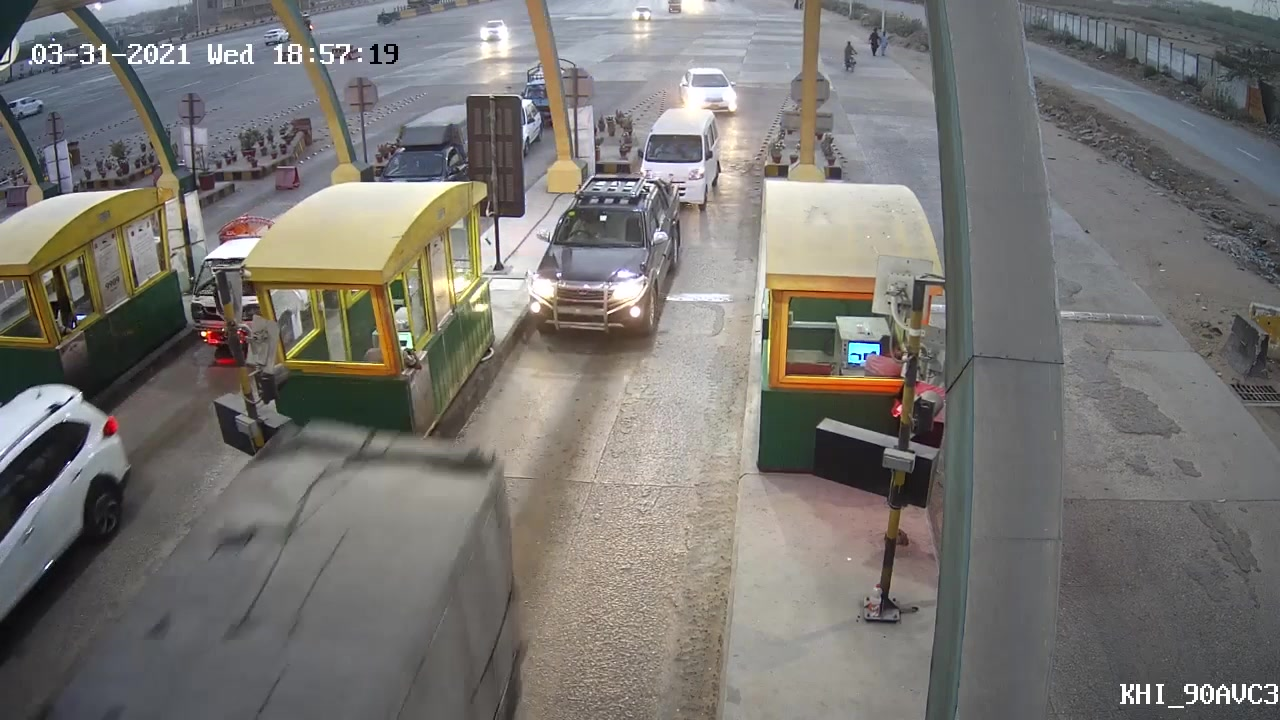F1: (519, 174, 682, 347)
